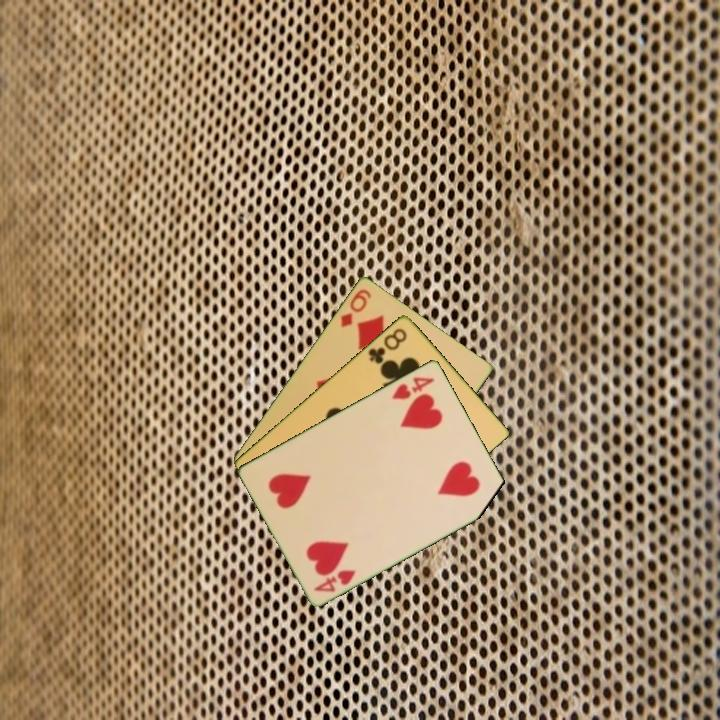4h: (388, 373, 438, 402), (310, 566, 359, 594)
6d: (337, 285, 374, 330)
8c: (365, 324, 410, 367)
